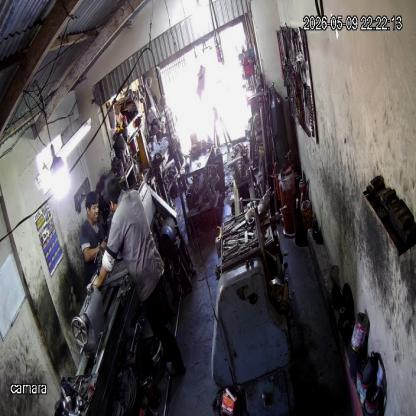sin_lentes: (88, 204, 100, 213)
